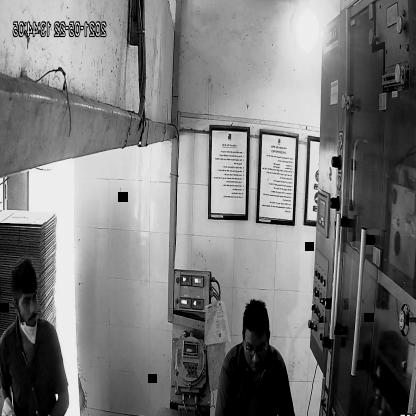goggles: (239, 333, 273, 360)
no_goggles: (18, 289, 39, 310)
